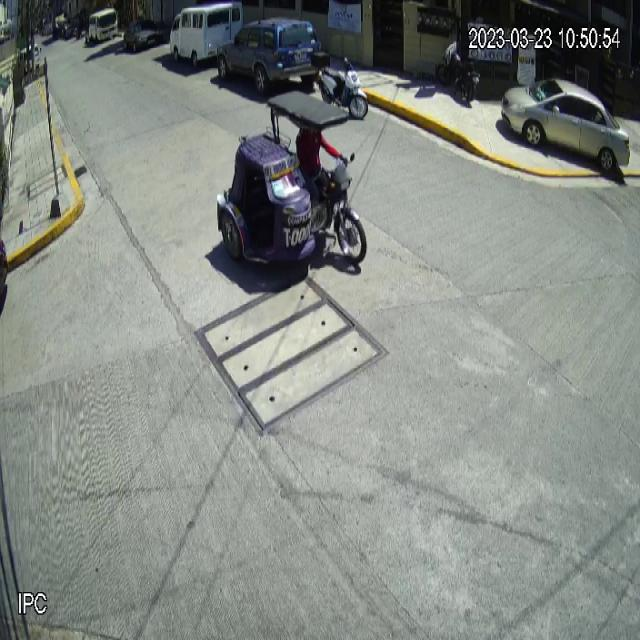Car: (500, 76, 630, 173), (215, 15, 322, 93)
Motorcycle: (311, 51, 368, 120)
Tricycle: (215, 90, 368, 268)
Van: (170, 0, 244, 67)
